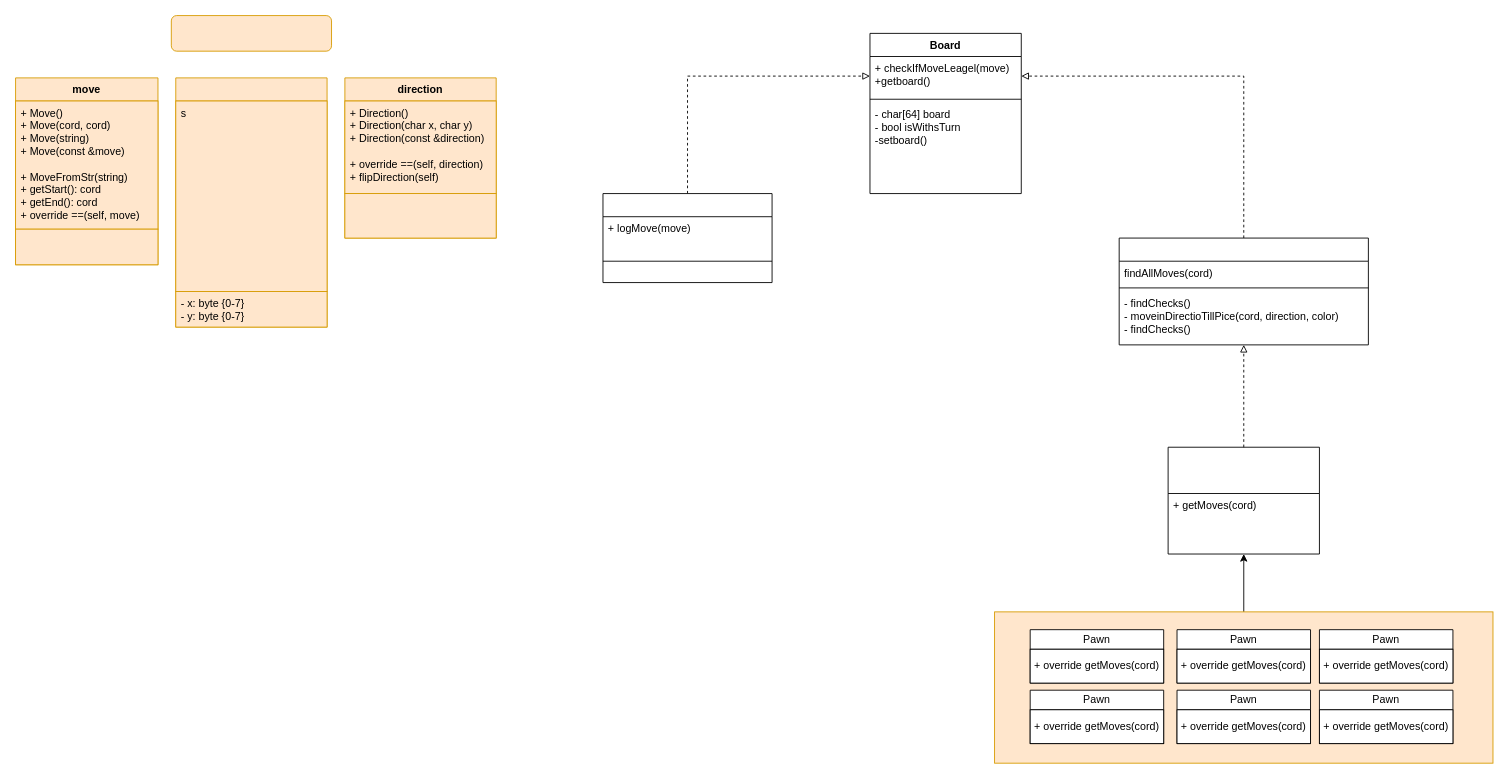
This 1509x779 diagram has some shape labels left out. The shapes that lost their labels are listed below. From the top down, each one's box as (x1, y1, x2, y2) in pixels, then its label:
(170, 15, 332, 51): helper structs
(175, 77, 327, 327): cord
(344, 193, 496, 238): - x: char {'+', '_', '-'} - y: char {'+', '_', '-'}
(15, 228, 158, 265): - start: cord - end: cord
(602, 193, 772, 283): gameLog
(1118, 237, 1368, 345): all moves posseble
(1167, 446, 1319, 554): Virtual Pice
